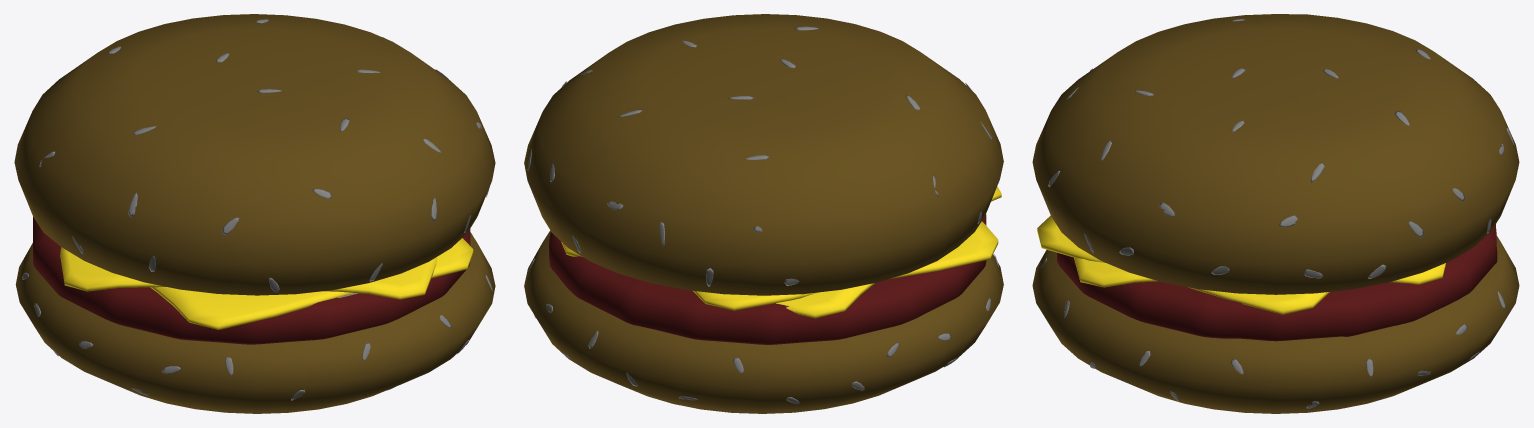
The model's file is Burger.fbx.
3 renders of one model, left to right at view 1: azimuth 30°, elevation 25°; view 2: azimuth 150°, elevation 25°; view 3: azimuth 270°, elevation 25°, orthographic.
Parts seen in each view (by area): view 1: Cylinder006; view 2: Cylinder006; view 3: Cylinder006.
Boxes of the visible parts, x1=… form: Cylinder006: x1=14, y1=14, x2=495, y2=413; Cylinder006: x1=524, y1=14, x2=1003, y2=413; Cylinder006: x1=1032, y1=14, x2=1519, y2=413.
Bounding box in the file's own units: 5.48 × 3.44 × 5.53.
